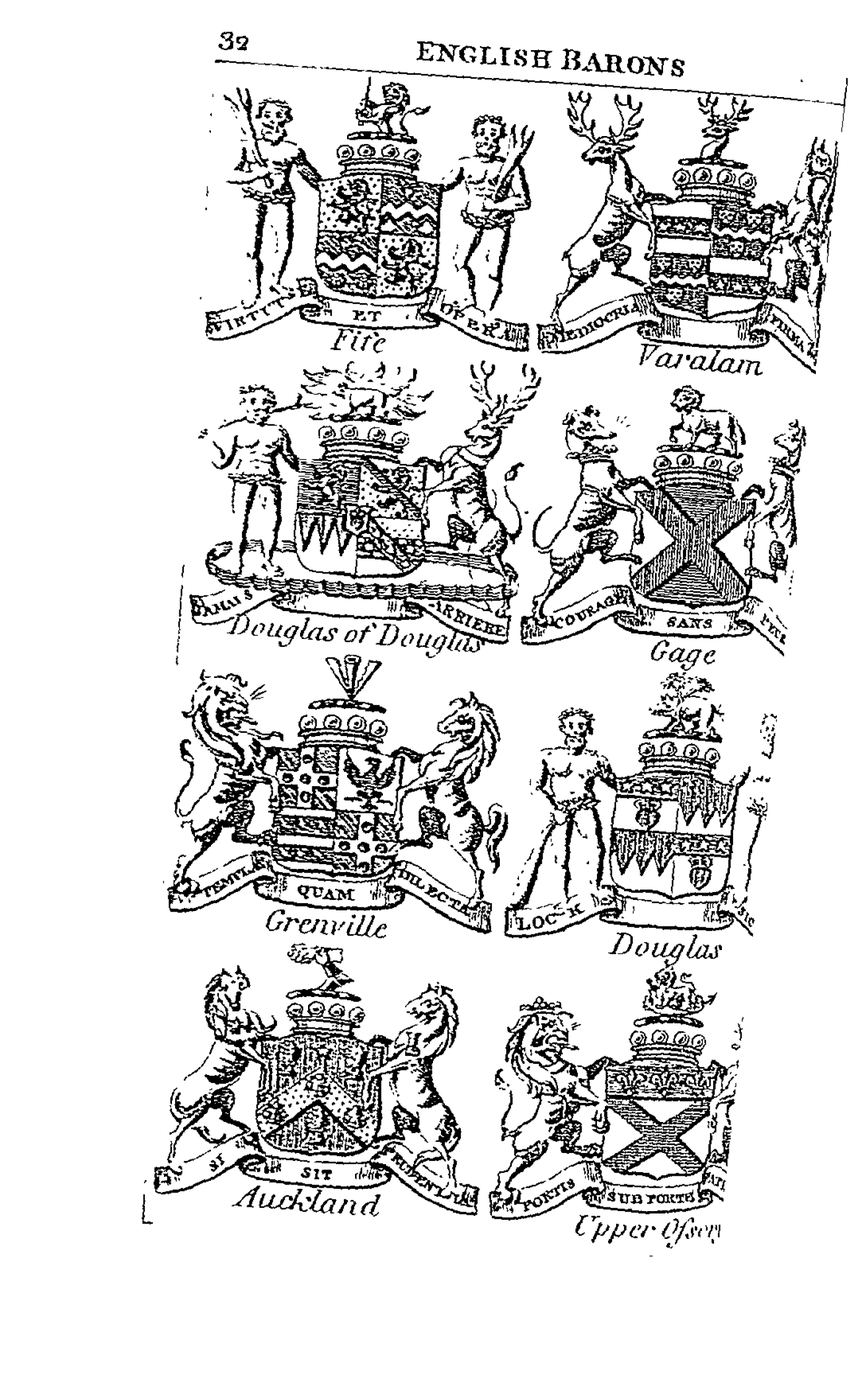coat_of_arms: (155, 939, 482, 1238), (174, 649, 502, 945), (210, 355, 516, 659), (538, 84, 840, 385), (217, 74, 536, 357), (518, 372, 810, 673), (509, 658, 800, 958), (490, 953, 773, 1254)
